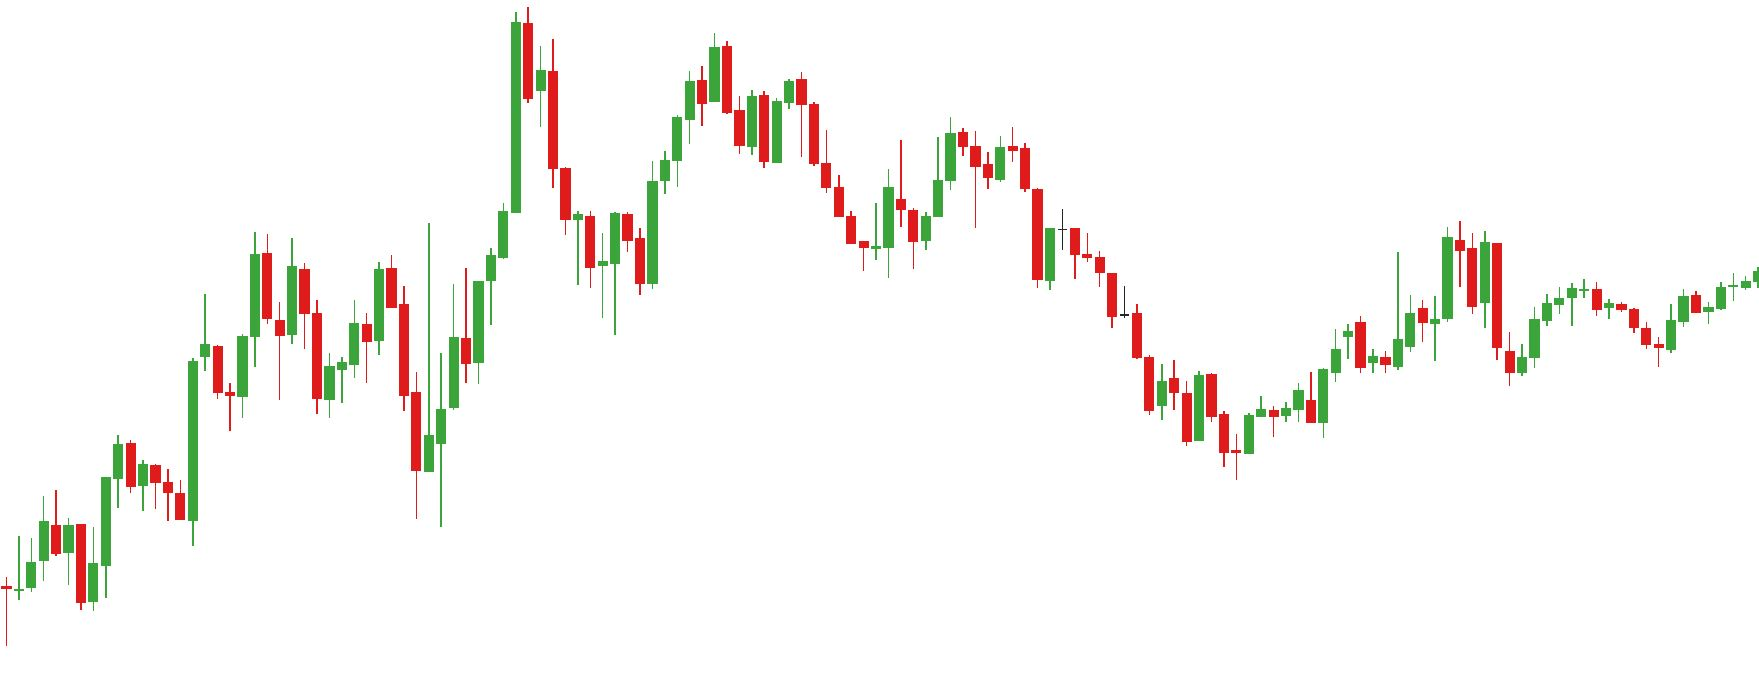buy: (221, 303, 449, 528)
sell: (1392, 221, 1479, 350), (895, 113, 970, 199)
